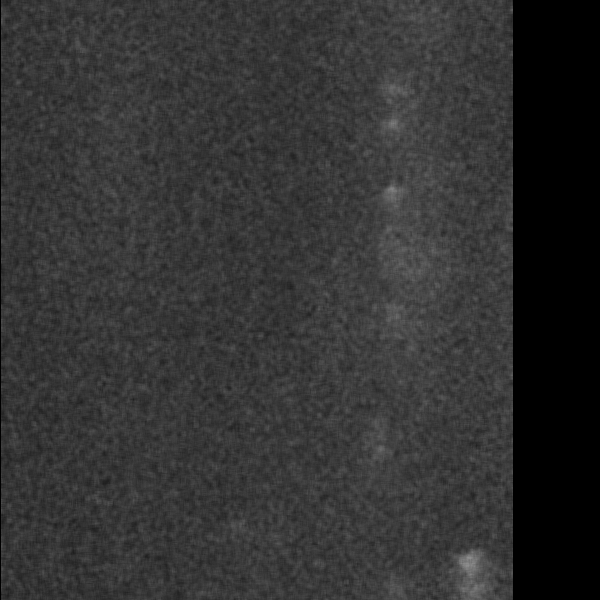spark: (448, 541, 493, 600), (365, 297, 405, 329), (376, 569, 415, 600), (384, 5, 438, 26), (375, 110, 408, 133), (368, 436, 392, 460)
